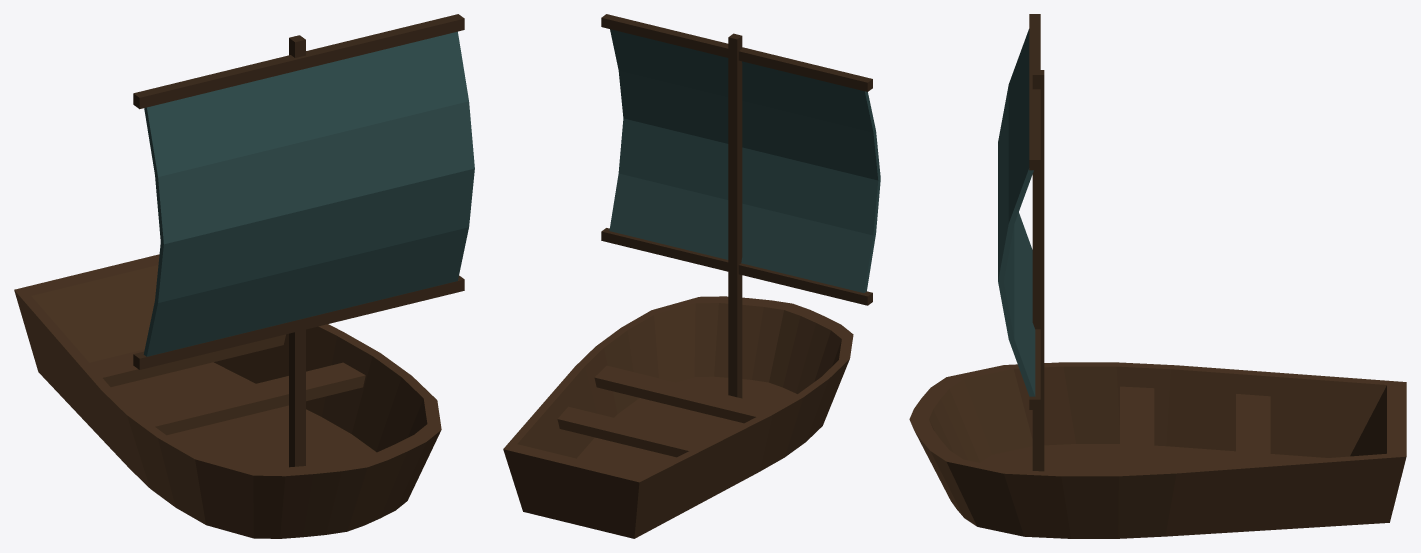
The model's file is Boat_2_Dark_Brown.fbx.
3 views of the same model, side by side, from view 1: azimuth 30°, elevation 25°; view 2: azimuth 150°, elevation 25°; view 3: azimuth 270°, elevation 25° (orthographic). The views are drawn at different scales.
Visible parts, largest first — view 1: Boat_2_Dark_Brown_Part_2, Boat_2_Dark_Brown_Part_1; view 2: Boat_2_Dark_Brown_Part_2, Boat_2_Dark_Brown_Part_1; view 3: Boat_2_Dark_Brown_Part_1, Boat_2_Dark_Brown_Part_2.
Boxes of the visible parts, x1,y1,x2,y2 form: Boat_2_Dark_Brown_Part_2: (133, 14, 474, 467); Boat_2_Dark_Brown_Part_1: (14, 254, 441, 538); Boat_2_Dark_Brown_Part_2: (601, 14, 880, 398); Boat_2_Dark_Brown_Part_1: (503, 296, 853, 538); Boat_2_Dark_Brown_Part_1: (909, 362, 1406, 538); Boat_2_Dark_Brown_Part_2: (998, 14, 1044, 471).
Bounding box in the file's own units: 390 × 523 × 562.
